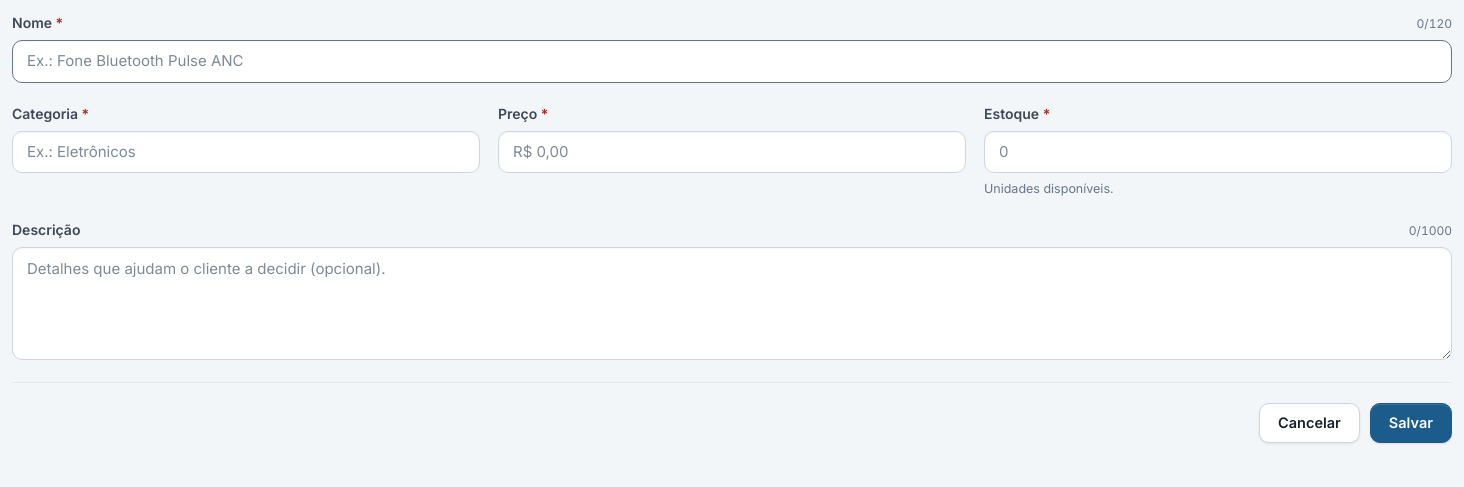
Test: ProductForm — o mesmo formulário para criar e editar › valida ao sair do campo, com a mesma regra da API
Type "TV" into the field labelled "Nome *". click: point(732, 61)
box: [12, 40, 1452, 82]
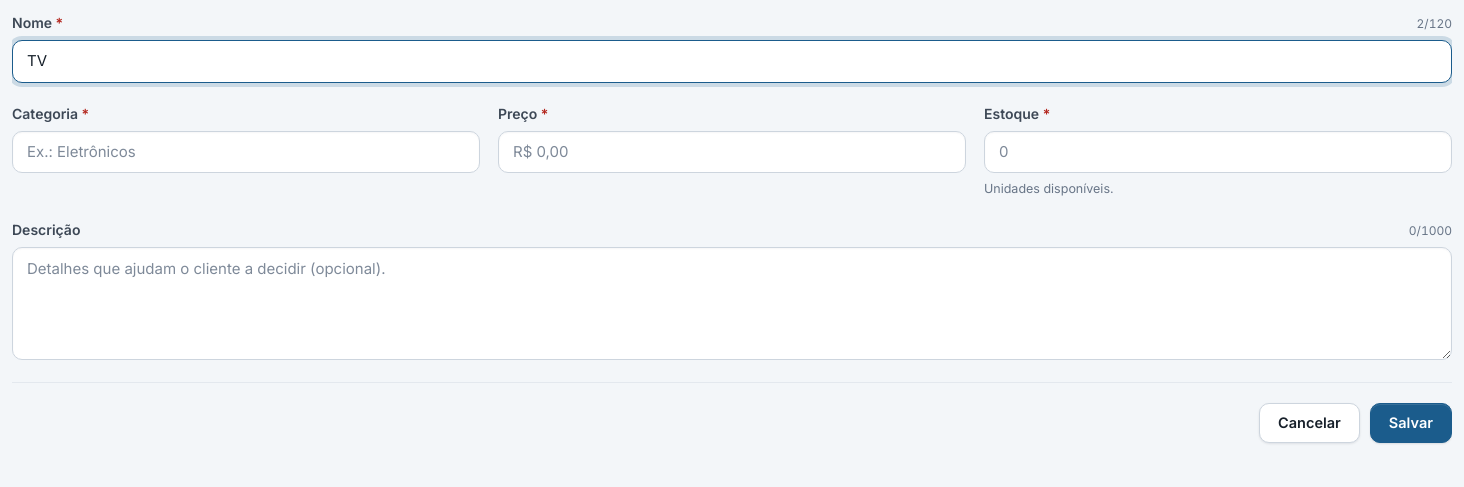
Press Tab
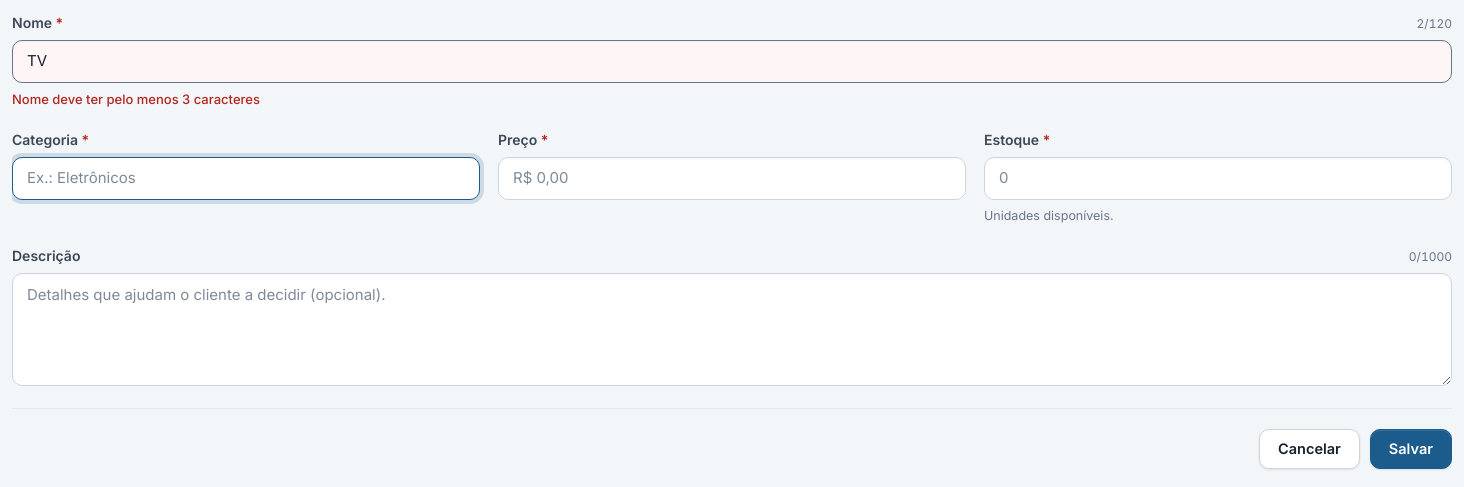
Expected: the text "Nome deve ter pelo menos 3 caracteres" is shown, [12, 90, 260, 106]
